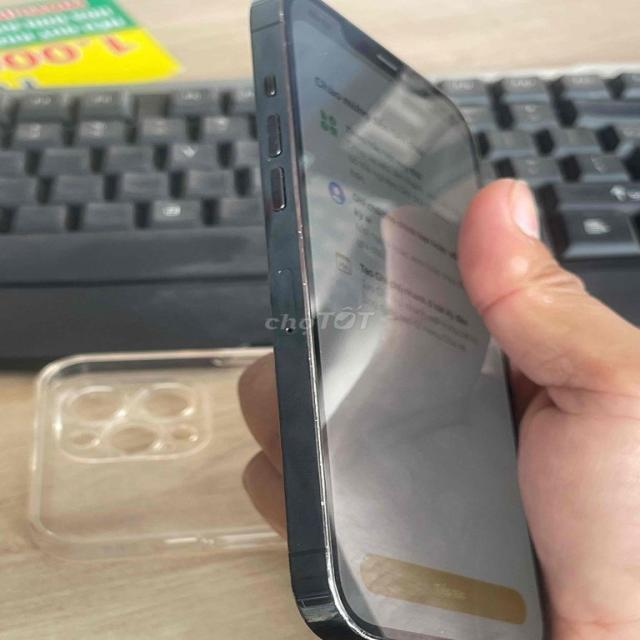gen_12_13: (230, 0, 561, 640)
